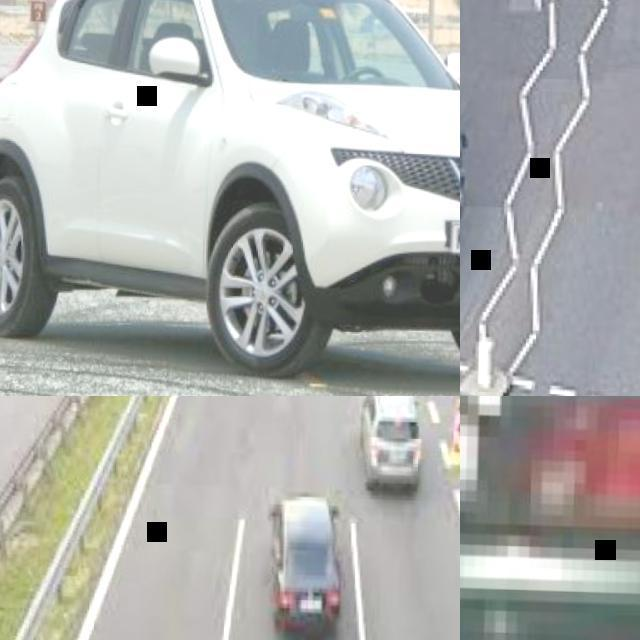car: (0, 0, 575, 381), (267, 488, 355, 634), (355, 395, 424, 490)
